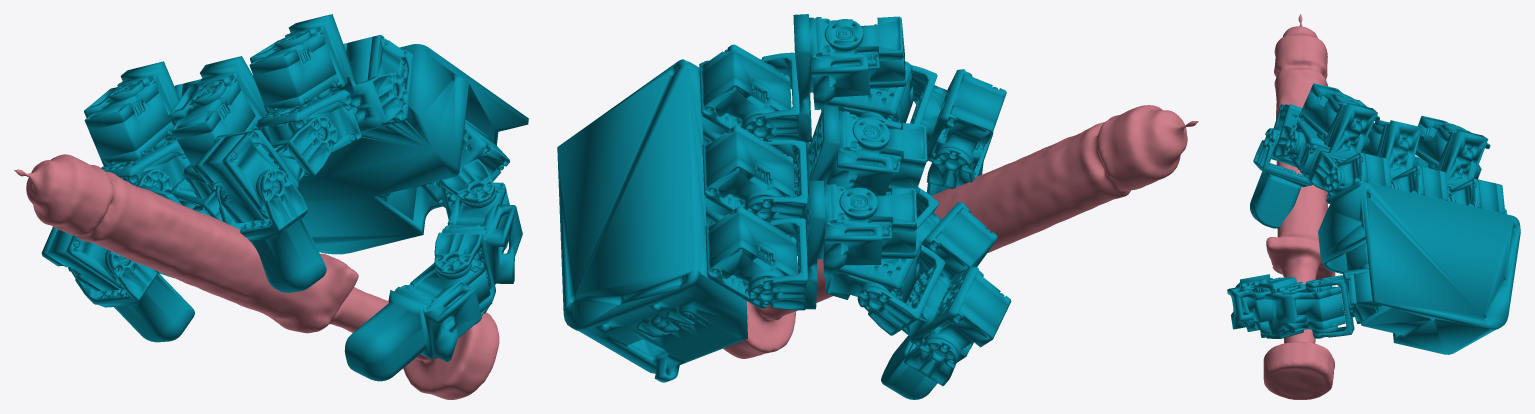
3 views of the same model, side by side, from view 1: azimuth 30°, elevation 25°; view 2: azimuth 150°, elevation 25°; view 3: azimuth 270°, elevation 25° (orthographic). The views are drawn at different scales.
Visible parts, largest first — view 1: world; view 2: world; view 3: world.
Part boxes in pixels (x1,y1,x2,y2): world: [14, 14, 528, 399]; world: [557, 14, 1198, 399]; world: [1227, 14, 1520, 399].
Size of the model in its own units: 0.2872 by 0.1809 by 0.18.
